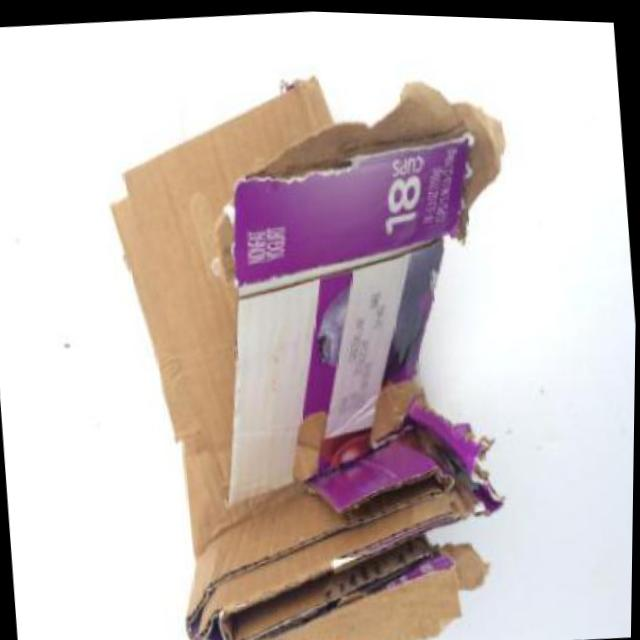box: (77, 35, 548, 640)
